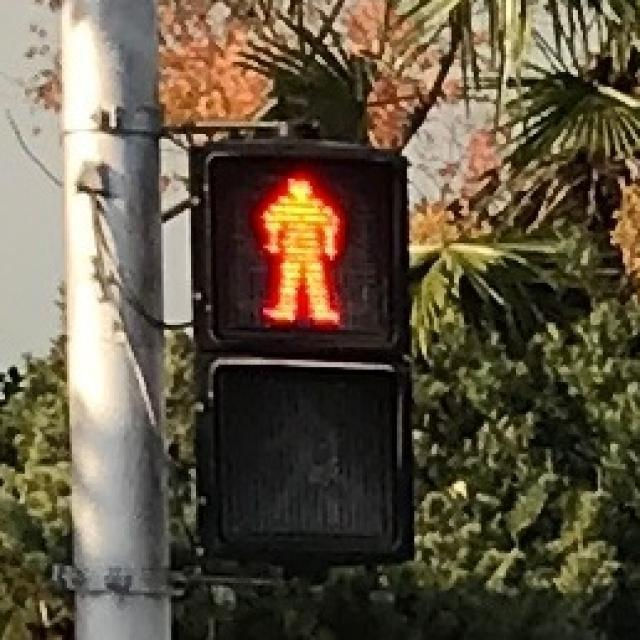red-crossing: (218, 152, 384, 332)
